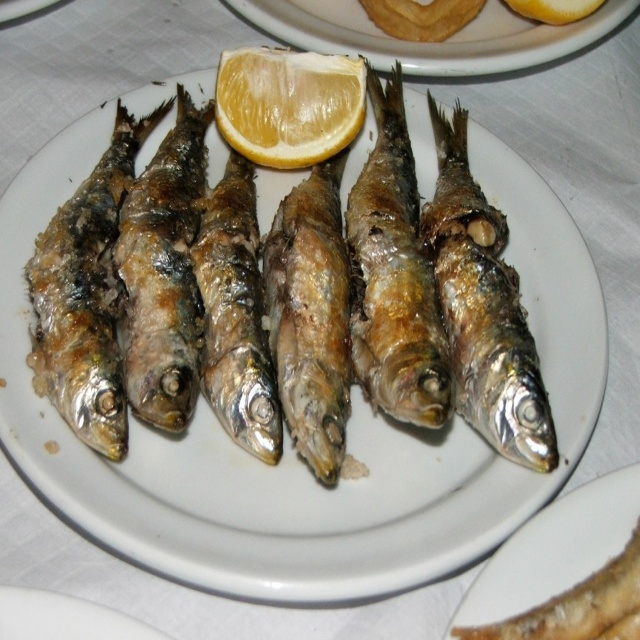Fish: (22, 56, 560, 486)
